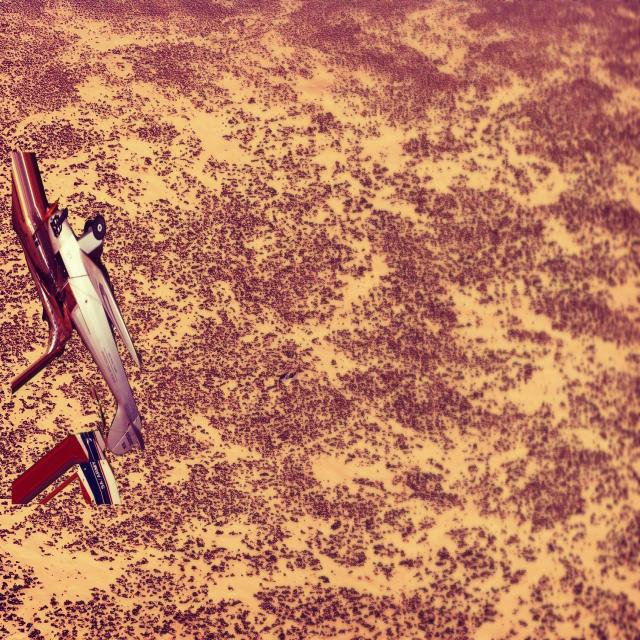airplane: (11, 152, 144, 506)
